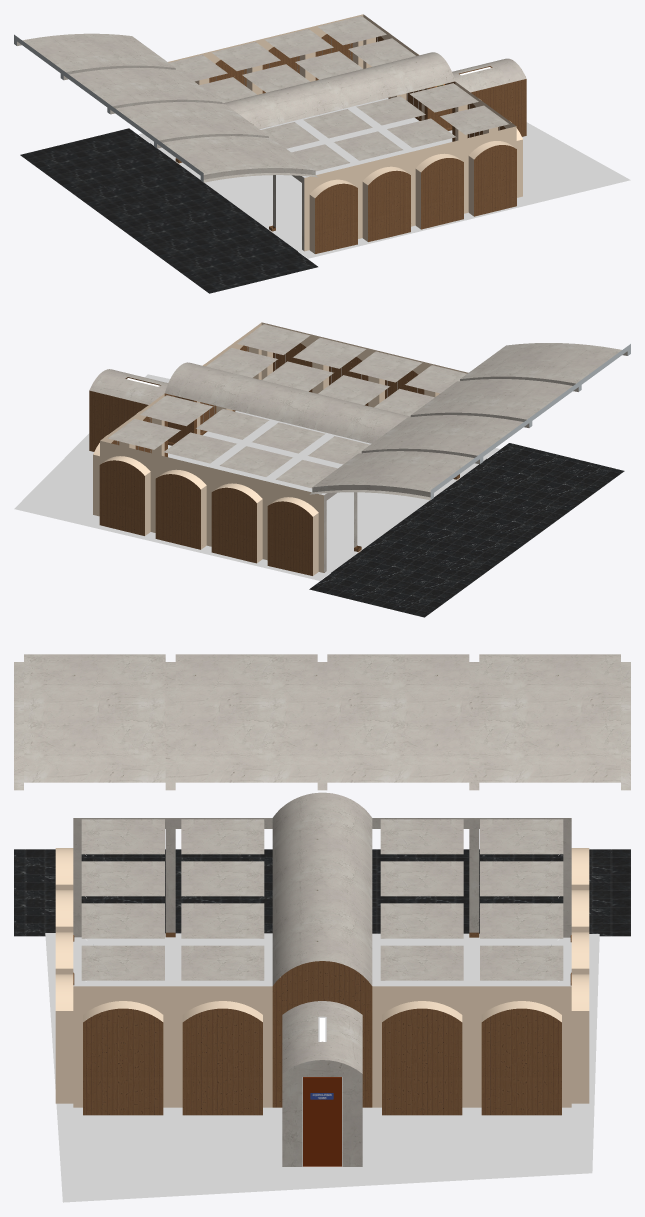
3 views of the same model, one above another, from view 1: azimuth 30°, elevation 25°; view 2: azimuth 150°, elevation 25°; view 3: azimuth 270°, elevation 25° (orthographic). The views are drawn at different scales.
Visible parts, largest first — view 1: Material2.001, Material2.004, Material2, Plane, Material2.003, Material2.012; view 2: Material2.001, Material2.004, Material2, Plane, Material2.003, Material2.012; view 3: Material2.001, Plane, Material2, Material2.003, Material2.004, Material2.017.
Part boxes in pixels (x1=…): Material2.001: x1=17, y1=16, x2=526, y2=250; Material2.004: x1=20, y1=128, x2=317, y2=293; Material2: x1=175, y1=34, x2=526, y2=253; Plane: x1=138, y1=98, x2=630, y2=258; Material2.003: x1=168, y1=14, x2=522, y2=253; Material2.012: x1=14, y1=34, x2=203, y2=182; Material2.001: x1=89, y1=324, x2=627, y2=572; Material2.004: x1=309, y1=443, x2=624, y2=617; Material2: x1=89, y1=343, x2=459, y2=575; Plane: x1=14, y1=374, x2=499, y2=580; Material2.003: x1=93, y1=322, x2=468, y2=575; Material2.012: x1=430, y1=344, x2=630, y2=499; Material2.001: x1=14, y1=654, x2=630, y2=1166; Plane: x1=45, y1=933, x2=599, y2=1202; Material2: x1=73, y1=932, x2=571, y2=1115; Material2.003: x1=55, y1=848, x2=589, y2=1107; Material2.004: x1=14, y1=849, x2=630, y2=936; Material2.017: x1=303, y1=1077, x2=341, y2=1166.
Bounding box in the file's own units: 665 × 181 × 493.
11 materials, 5 textured.
